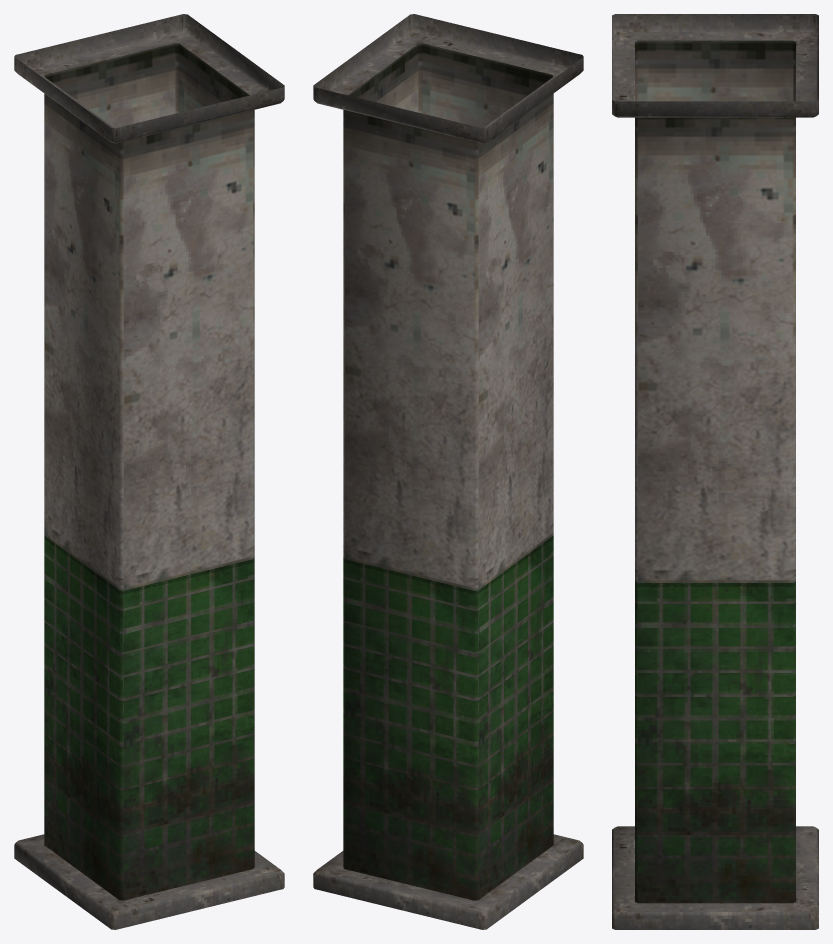
The model's file is _Column_2.FBX.
3 views of the same model, side by side, from view 1: azimuth 30°, elevation 25°; view 2: azimuth 150°, elevation 25°; view 3: azimuth 270°, elevation 25° (orthographic). The views are drawn at different scales.
Parts seen in each view (by area): view 1: _Column_2; view 2: _Column_2; view 3: _Column_2.
Part boxes in pixels (x1,y1,x2,y2): _Column_2: (14, 14, 284, 929); _Column_2: (313, 14, 583, 929); _Column_2: (612, 14, 818, 929).
Size of the model in its own units: 160 by 708 by 160.
2 materials, 2 textured.
